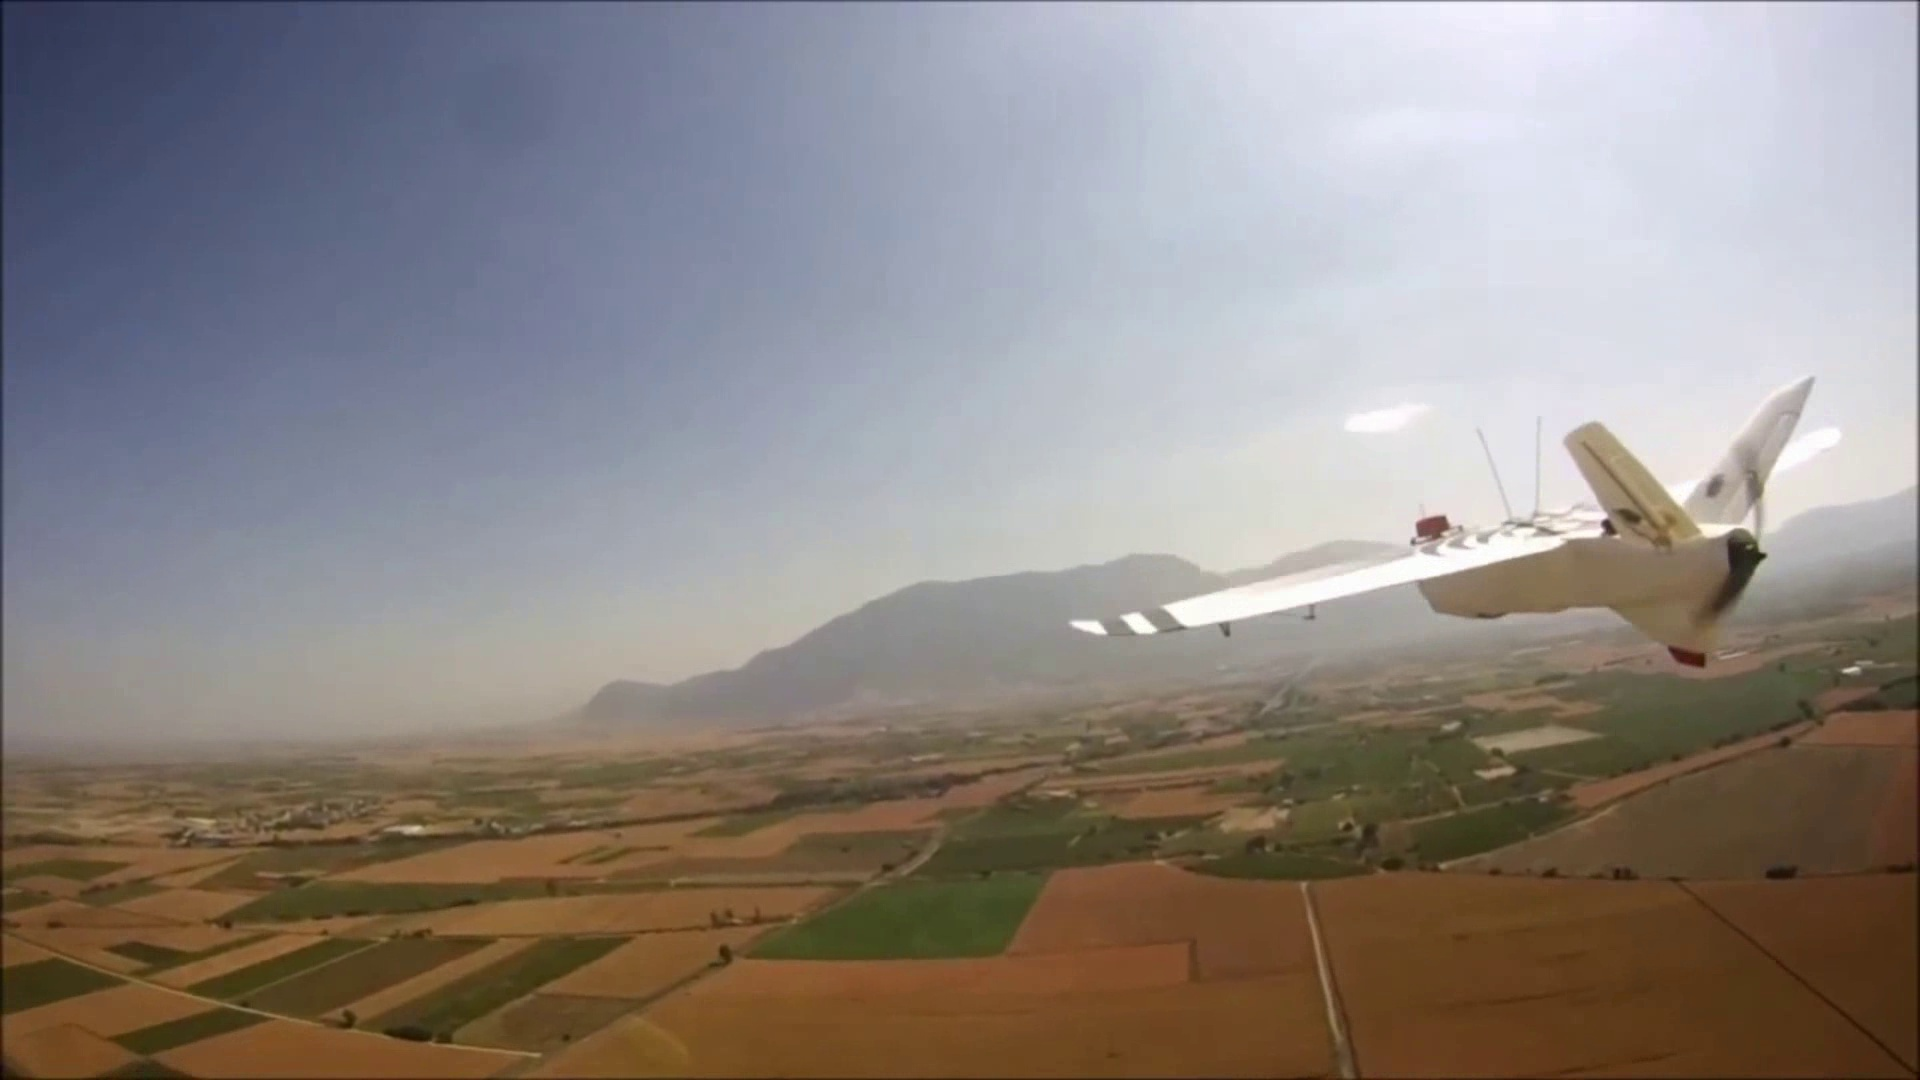airplane: (1066, 375, 1913, 679)
